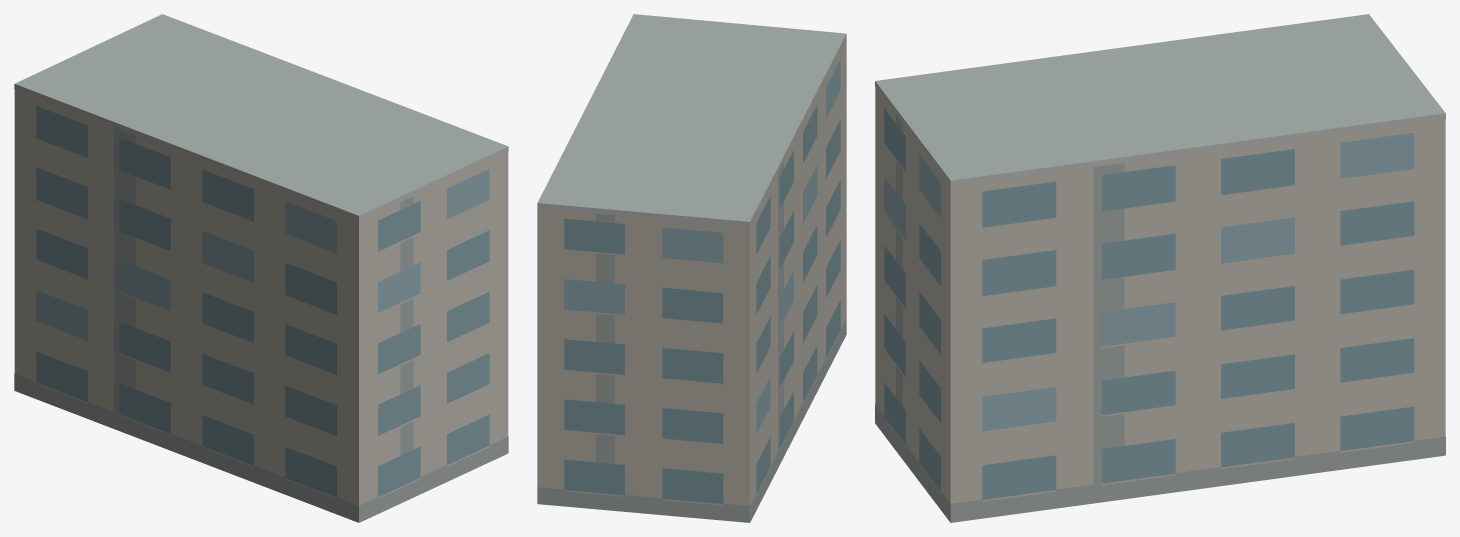
File: survey-upis-32916357.glb
3 views of the same model, side by side, from view 1: azimuth 30°, elevation 25°; view 2: azimuth 150°, elevation 25°; view 3: azimuth 270°, elevation 25° (orthographic). The views are drawn at different scales.
Visible parts, largest first — view 1: survey-upis-32916357.tmp; view 2: survey-upis-32916357.tmp; view 3: survey-upis-32916357.tmp.
Part boxes in pixels (x1=…): survey-upis-32916357.tmp: x1=14, y1=14, x2=508, y2=522; survey-upis-32916357.tmp: x1=537, y1=14, x2=846, y2=522; survey-upis-32916357.tmp: x1=875, y1=14, x2=1445, y2=522.
Size of the model in its own units: 14.57 by 13.95 by 21.09.
